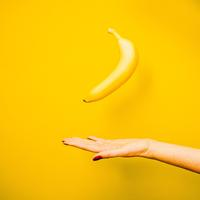banane: (73, 21, 160, 111)
